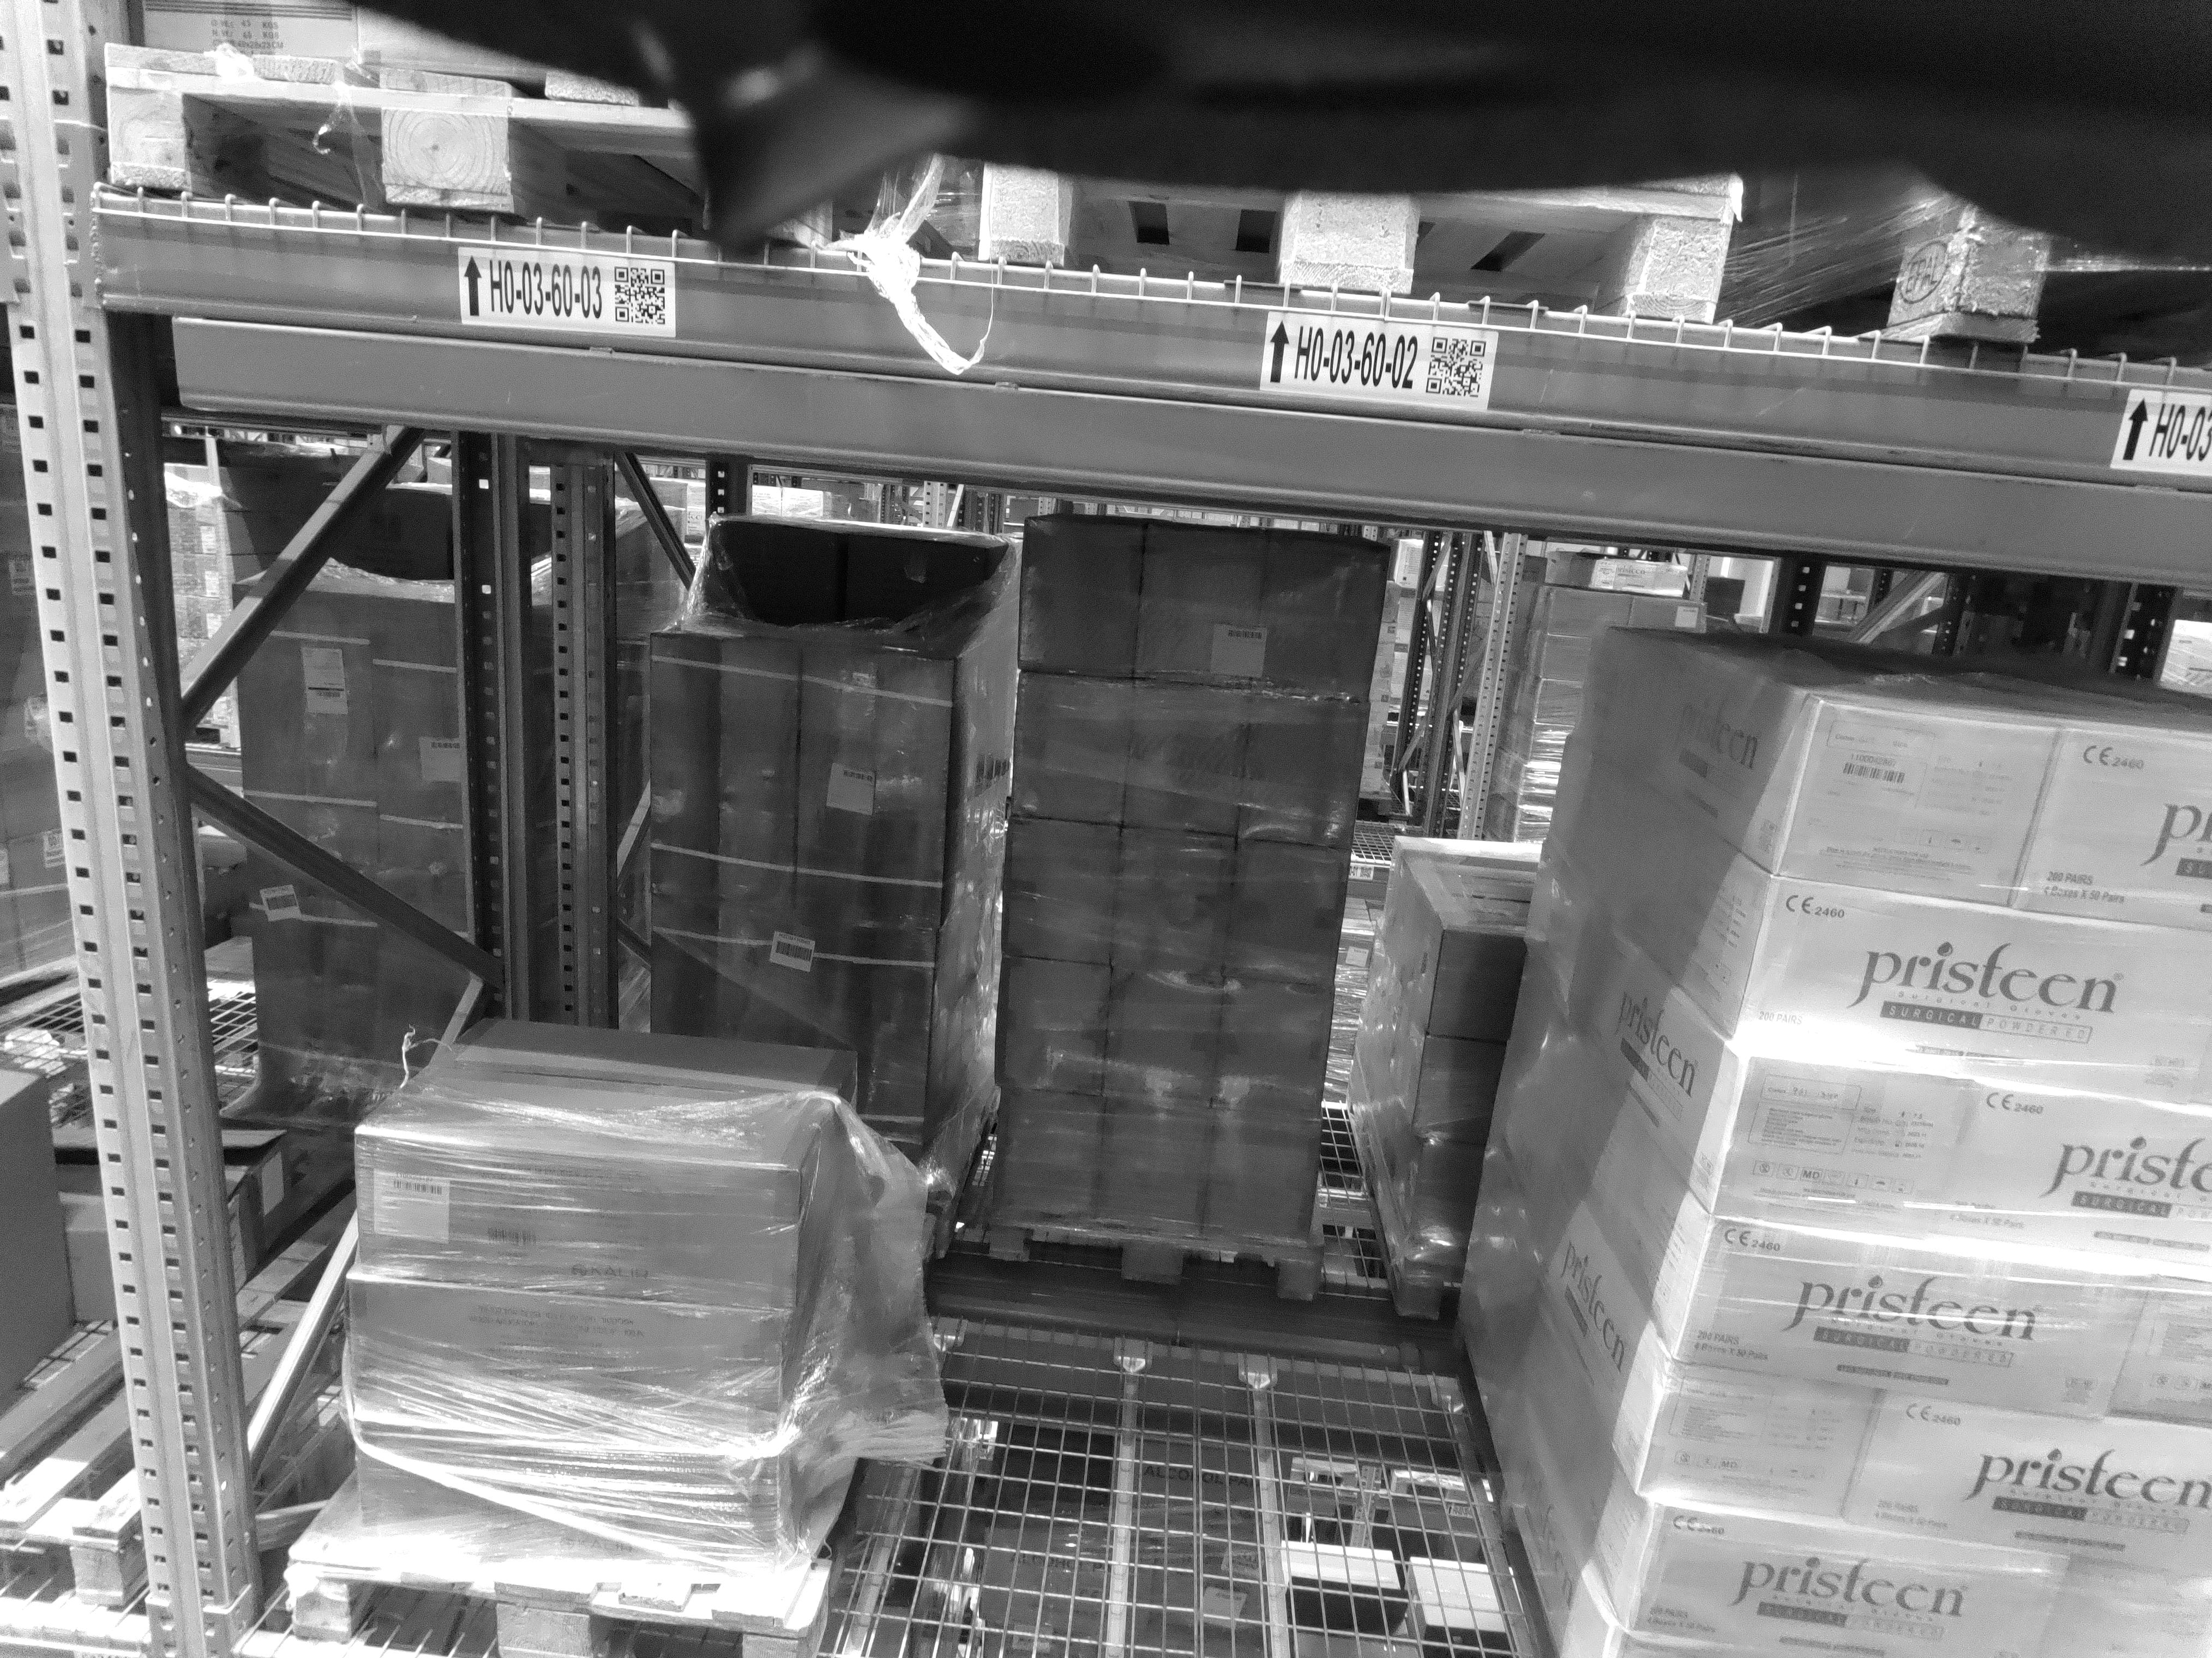empty-shelf: (906, 521, 1501, 1658)
